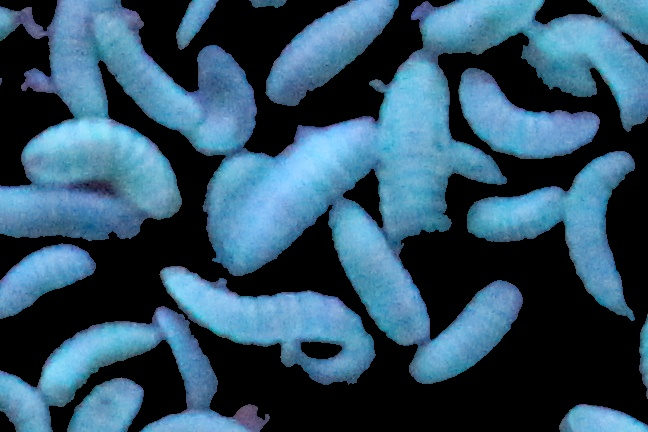larvae: (218, 119, 374, 278), (157, 264, 367, 346), (19, 125, 182, 220), (326, 201, 430, 345), (266, 1, 400, 107), (375, 58, 450, 236), (456, 67, 598, 155), (536, 14, 644, 124), (566, 150, 636, 319), (410, 280, 522, 384), (92, 15, 194, 126), (39, 318, 157, 404), (1, 186, 144, 245), (46, 1, 116, 119), (1, 243, 94, 319), (415, 1, 543, 54), (192, 49, 257, 153), (156, 311, 219, 408), (467, 185, 565, 243), (202, 150, 268, 219), (63, 378, 145, 432), (297, 345, 378, 389), (1, 366, 54, 432)
